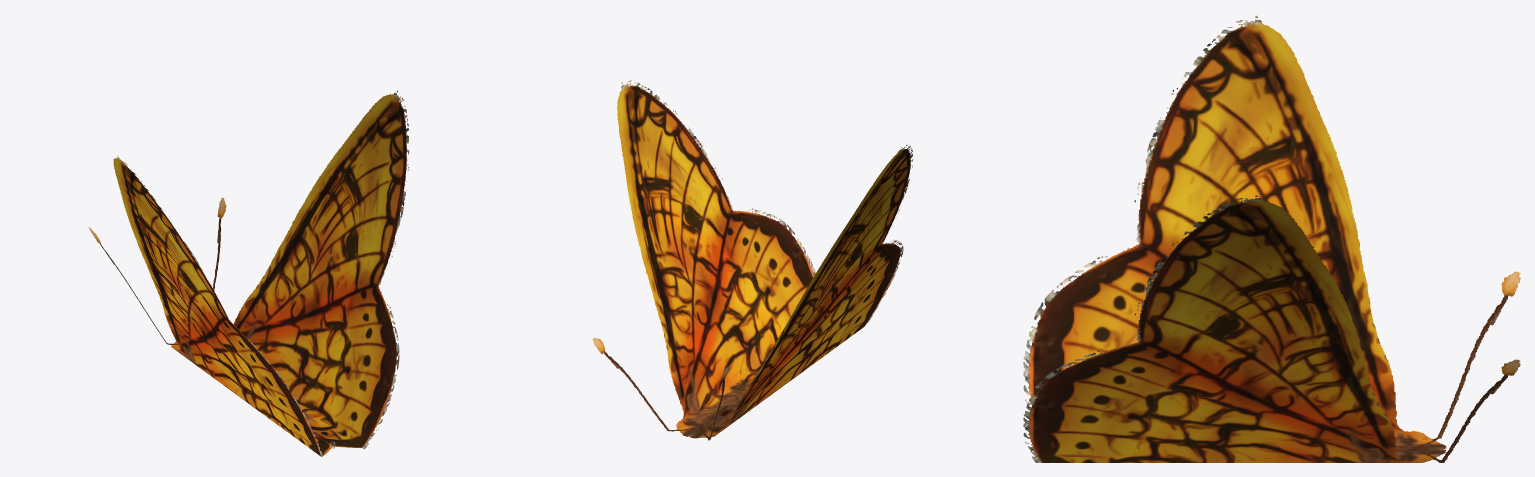
File: Butterfly.FBX
3 views of the same model, side by side, from view 1: azimuth 30°, elevation 25°; view 2: azimuth 150°, elevation 25°; view 3: azimuth 270°, elevation 25° (orthographic). The views are drawn at different scales.
Visible parts, largest first — view 1: Object004; view 2: Object004; view 3: Object004.
Boxes of the visible parts, x1,y1,x2,y2 form: Object004: (88, 90, 409, 456); Object004: (592, 80, 913, 440); Object004: (1023, 15, 1520, 462).
Bounding box in the file's own units: 2.96 × 2.73 × 3.55.
Materials: 1 (1 with a texture image).
